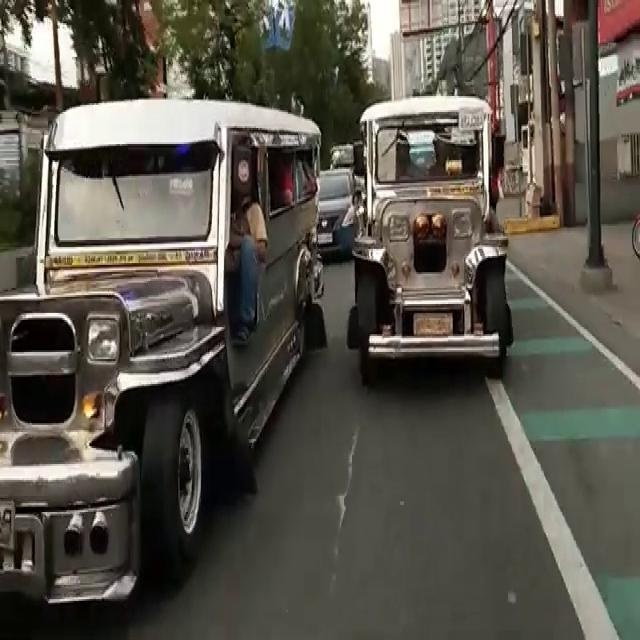jeepney: (8, 122, 312, 640), (341, 93, 513, 380)
